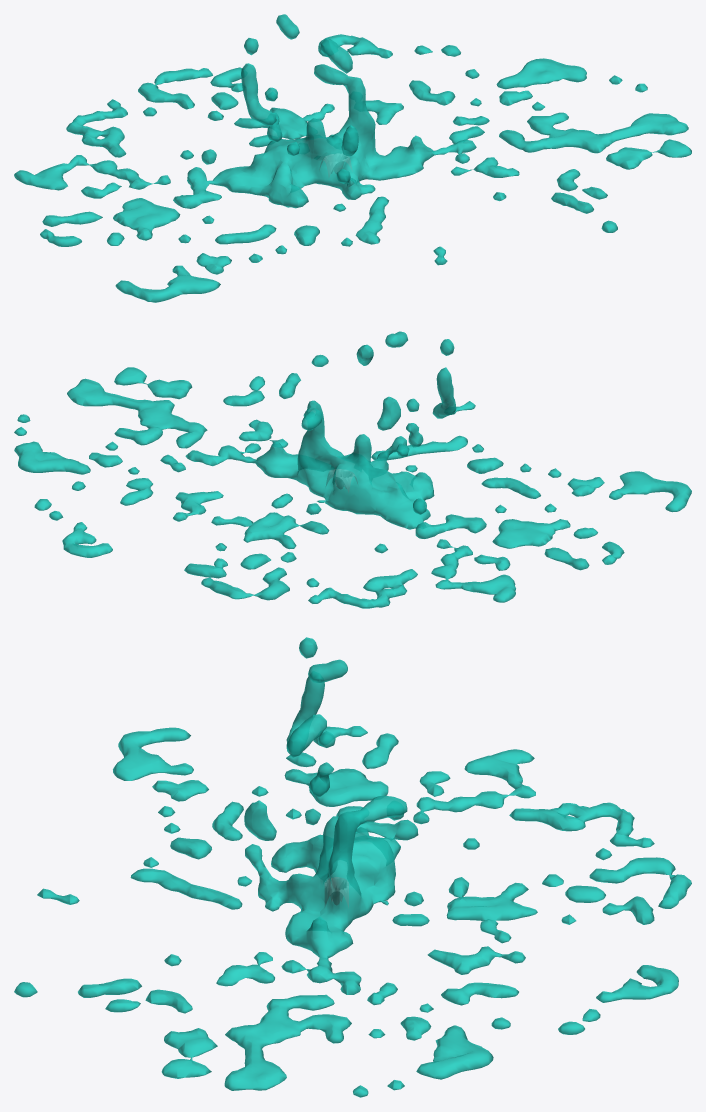
3 views of the same model, one above another, from view 1: azimuth 30°, elevation 25°; view 2: azimuth 150°, elevation 25°; view 3: azimuth 270°, elevation 25° (orthographic). The views are drawn at different scales.
Visible parts, largest first — view 1: Liquid_Domain; view 2: Liquid_Domain; view 3: Liquid_Domain.
Boxes of the visible parts, box(x1,y1,x2,y2) form: Liquid_Domain: box(14, 14, 691, 302); Liquid_Domain: box(14, 331, 691, 608); Liquid_Domain: box(14, 637, 691, 1097).
Size of the model in its own units: 10.63 by 2.91 by 8.3.
